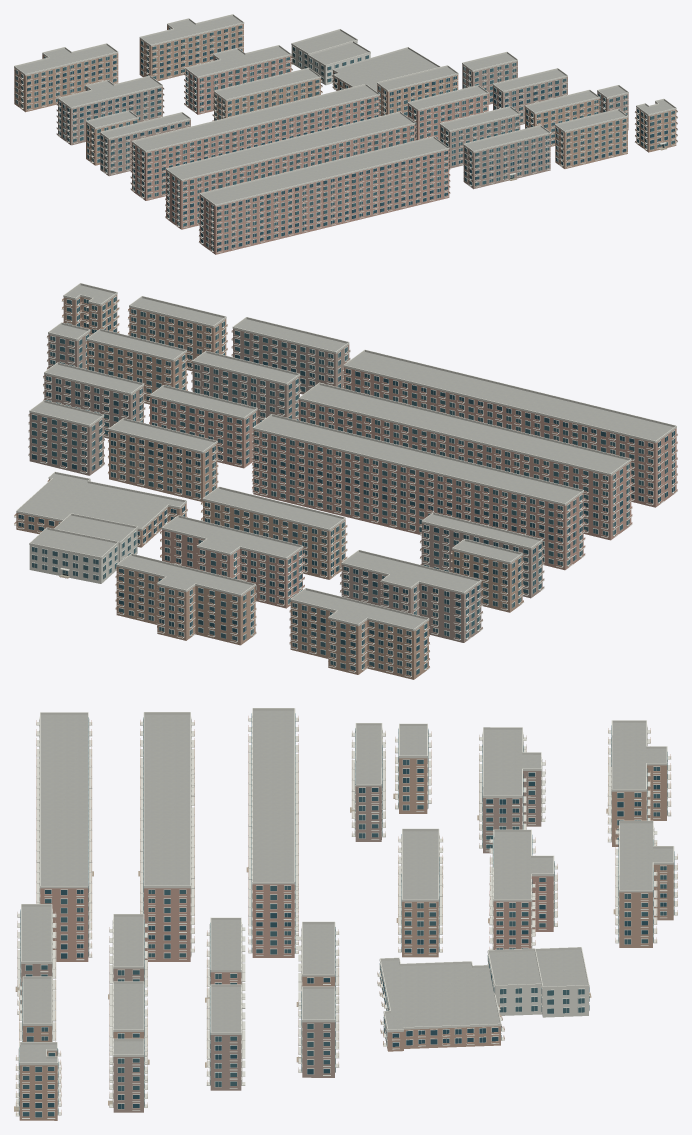
File: chunk-p0-n3.glb
The picture shows the model from 3 angles, top to bottom: view 1: azimuth 30°, elevation 25°; view 2: azimuth 150°, elevation 25°; view 3: azimuth 270°, elevation 25°; orthographic projection. The views are drawn at different scales.
Visible parts, largest first — view 1: chunk-p0-n3; view 2: chunk-p0-n3; view 3: chunk-p0-n3.
Part boxes in pixels (x1,y1,x2,y2): chunk-p0-n3: (14, 14, 677, 254); chunk-p0-n3: (14, 283, 677, 679); chunk-p0-n3: (14, 708, 677, 1120).
Bounding box in the file's own units: 268 × 30.01 × 219.
Materials: 10 (3 with a texture image).
